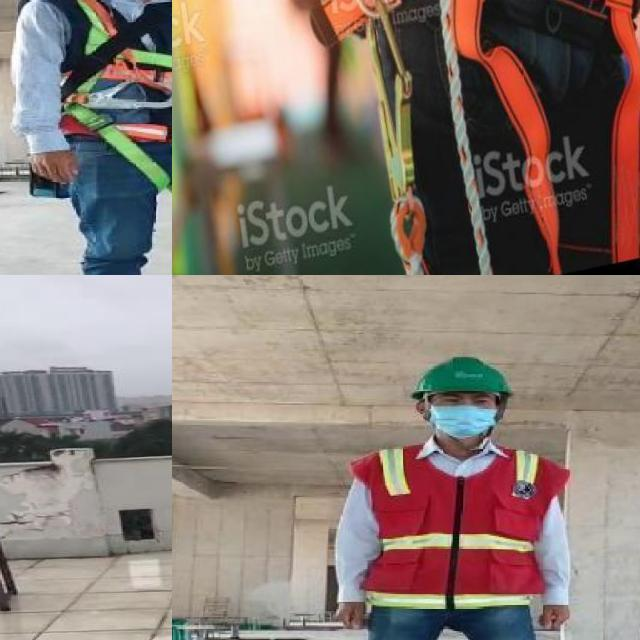Harness: (443, 0, 562, 275)
face_mask: (423, 393, 499, 435)
hand_noglove: (21, 140, 84, 190), (332, 592, 374, 638), (530, 597, 574, 631)
head_helmet: (407, 354, 515, 399)
person: (332, 352, 580, 640), (3, 0, 172, 275)
vest: (341, 443, 568, 624), (18, 0, 172, 147)
